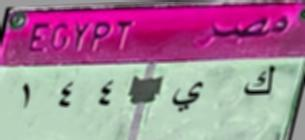1: (18, 77, 37, 114)
4: (88, 79, 122, 116), (49, 74, 79, 112)
kaaf: (238, 59, 276, 108)
yaa: (165, 74, 213, 122)
